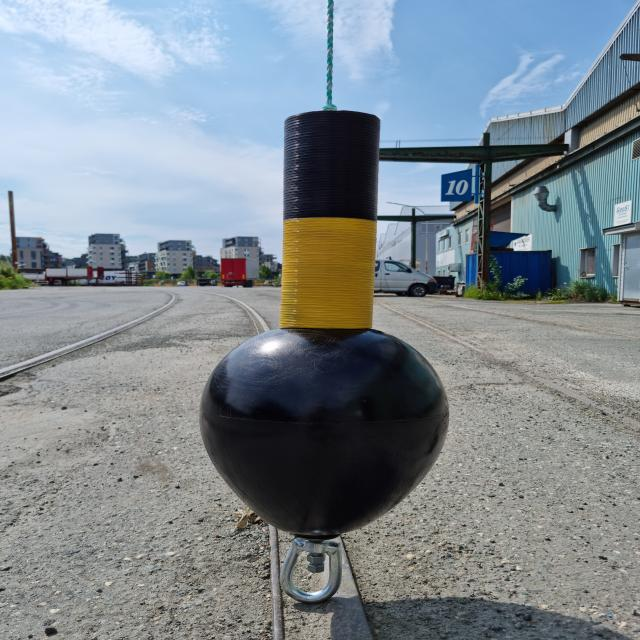east: (200, 109, 450, 538)
